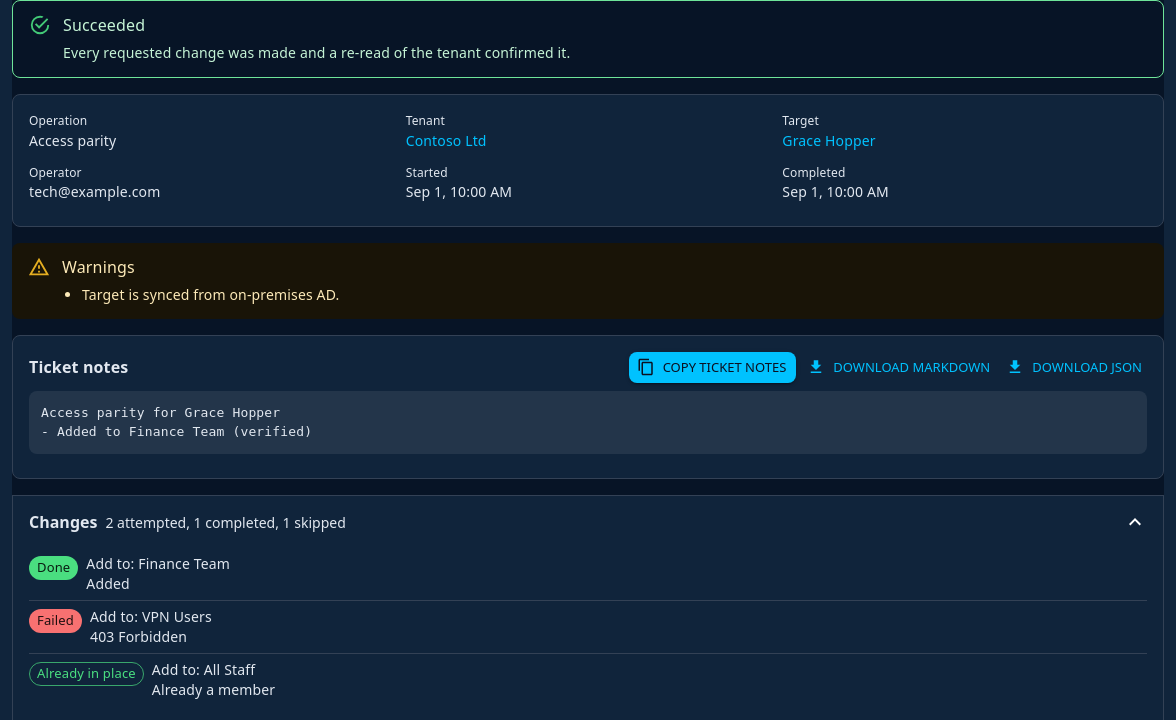
it: EvidencePanel › falls back to selecting the notes when the clipboard API is unavailable
Click the button "Copy ticket notes": {"x": 713, "y": 368} [629,352,796,383]
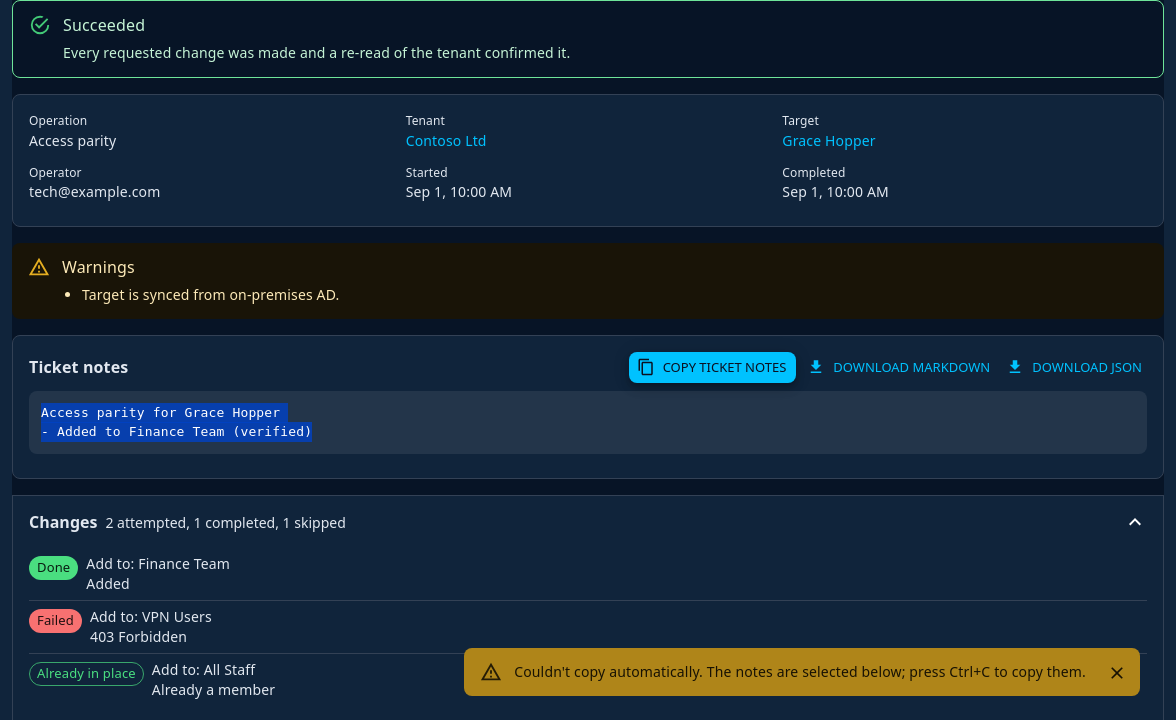
Expected: the text "Couldn't copy automatically" is shown, [514,662,1086,681]
